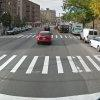Crosswalk: (3, 48, 98, 94)
